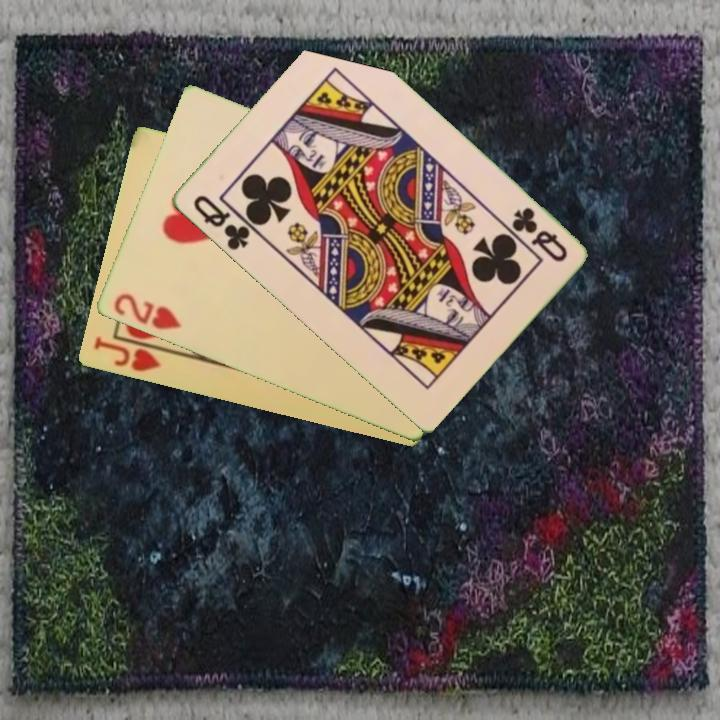2h: (109, 290, 184, 333)
Jh: (90, 332, 175, 375)
Qc: (189, 191, 261, 254), (507, 203, 570, 265)
